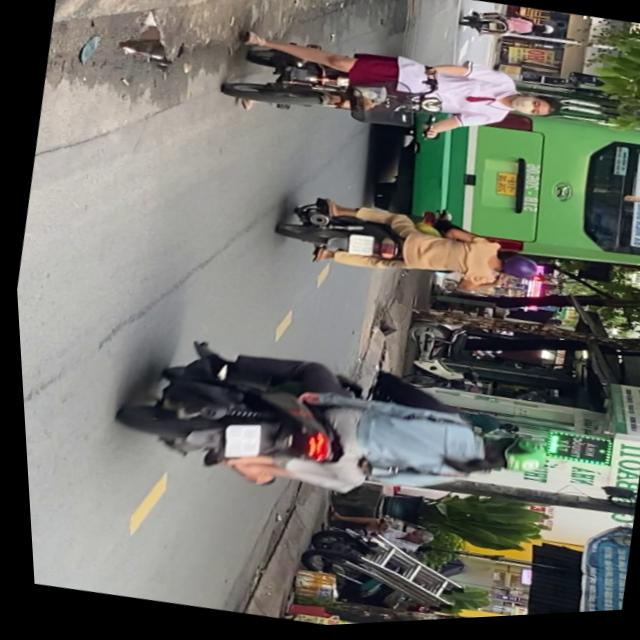helmet: (469, 432, 549, 488), (490, 254, 541, 290)
licenseplate: (101, 314, 563, 550), (209, 1, 571, 180), (267, 182, 550, 316)
motorcyclist: (506, 96, 557, 128)
nohelmet: (217, 422, 260, 464), (345, 236, 373, 261)
